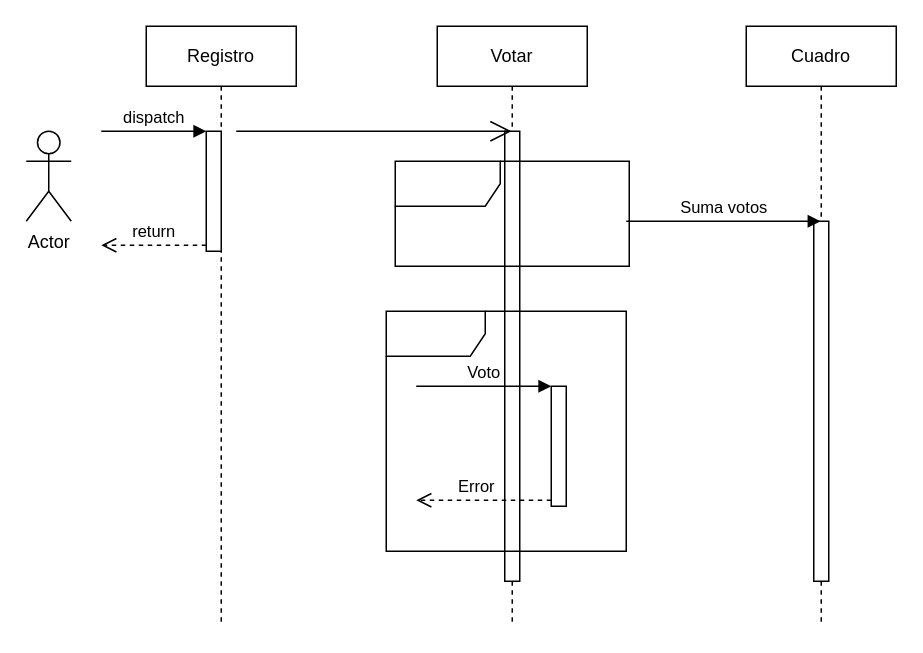
This 923x653 diagram has some shape labels left out. Here are the shapes that lost their labels. From the top down, the box of each, then its label:
(394, 160, 629, 266): Vota 1ª vez
(385, 310, 626, 551): Vota 2ª vez
